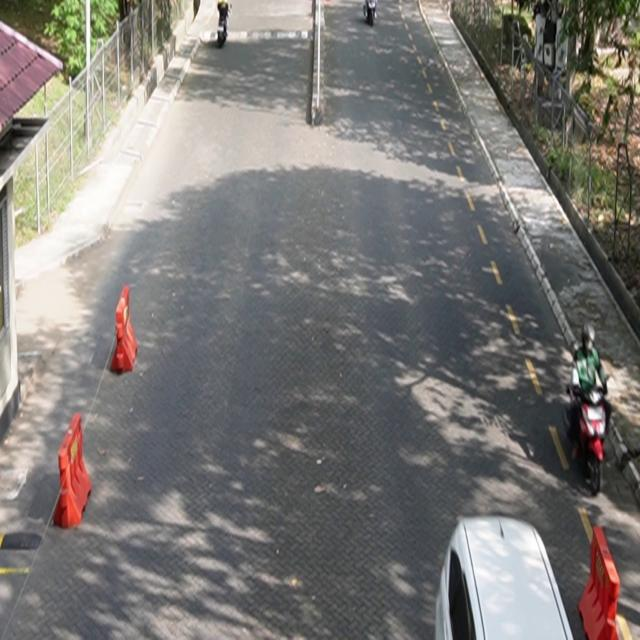car: (435, 515, 575, 640)
